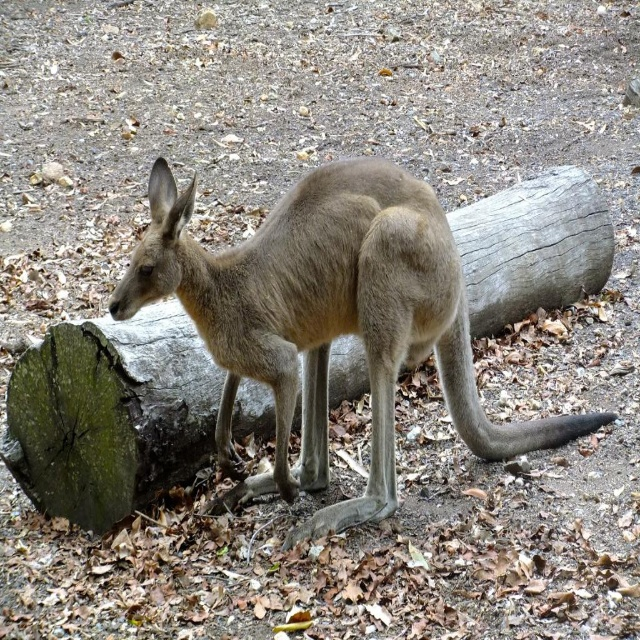Kangaroo: (105, 155, 620, 558)
